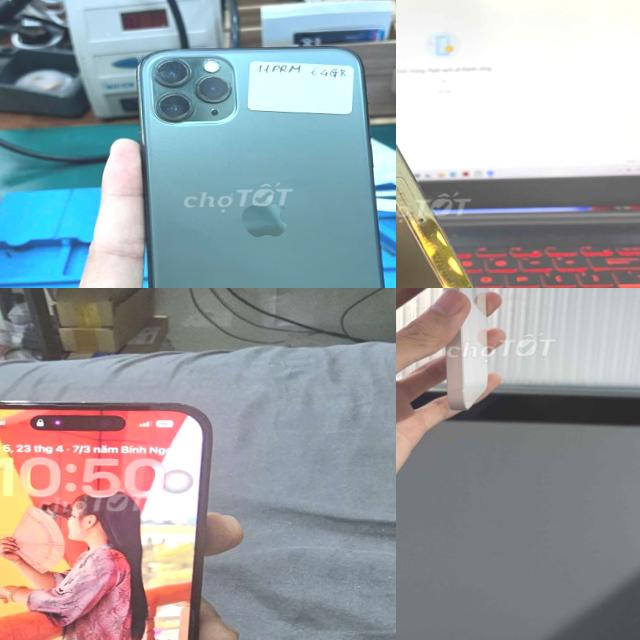gen_11: (135, 43, 396, 288)
gen_12_13: (396, 0, 565, 288), (418, 288, 506, 408)
gen_14: (0, 389, 211, 640)
